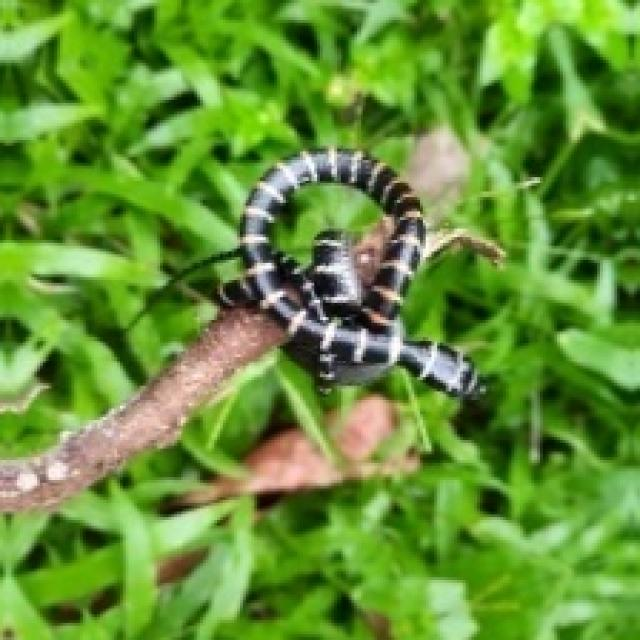paradise tree snake: (223, 149, 480, 394)
